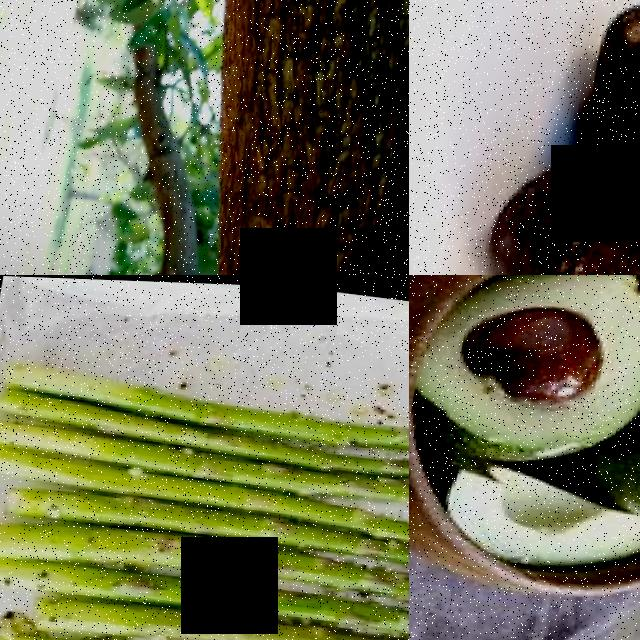asparagus: (0, 346, 409, 467), (14, 398, 409, 517), (49, 518, 409, 633), (68, 461, 409, 568), (94, 589, 409, 640)
avocado: (409, 275, 640, 474), (414, 449, 640, 586), (465, 150, 640, 275), (580, 0, 640, 201)
